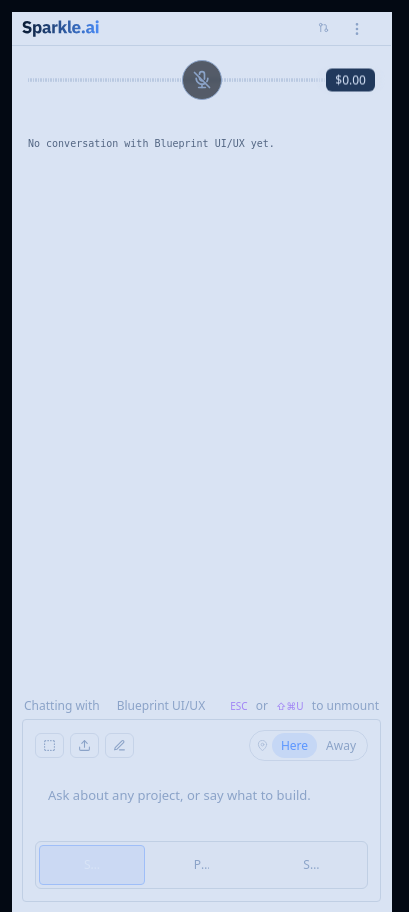
Test: ConciergeHost — @Sparkle is the way out of a mount › names the RIGHT remedy for an unentitled account, not the settings toggle
In the text box named "Message": (202, 804) [35, 775, 368, 833], type "@Sparkle what is the status of the build?"
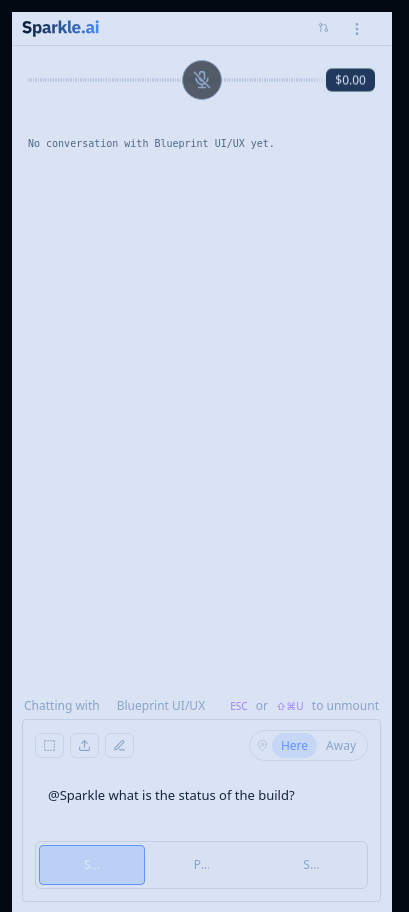
Click the button "Send": click(92, 865) [39, 845, 145, 885]
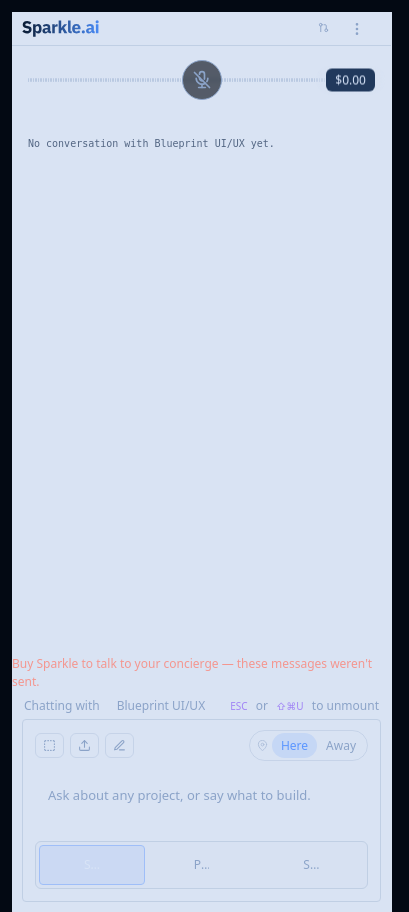
Expected: the message with test id "mounted-notice" shows "Buy Sparkle", [12, 655, 372, 690]
